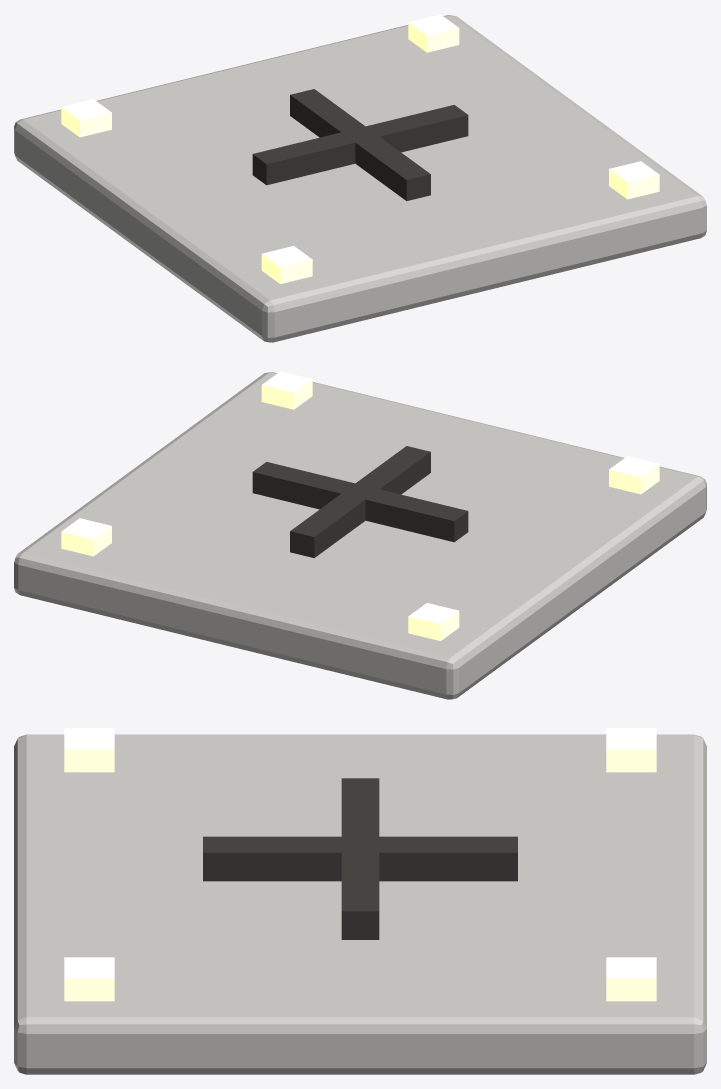
The model's file is topo_comp_switch.glb.
3 renders of one model, top to bottom at view 1: azimuth 30°, elevation 25°; view 2: azimuth 150°, elevation 25°; view 3: azimuth 270°, elevation 25°, orthographic. The views are drawn at different scales.
Visible parts, largest first — view 1: TOPO_COMP_SWITCH; view 2: TOPO_COMP_SWITCH; view 3: TOPO_COMP_SWITCH.
Part boxes in pixels (box(x1,y1,x2,y2)): TOPO_COMP_SWITCH: box(14, 14, 706, 342); TOPO_COMP_SWITCH: box(14, 371, 706, 699); TOPO_COMP_SWITCH: box(14, 728, 706, 1074).
Size of the model in its own units: 0.22 by 0.031 by 0.22.
